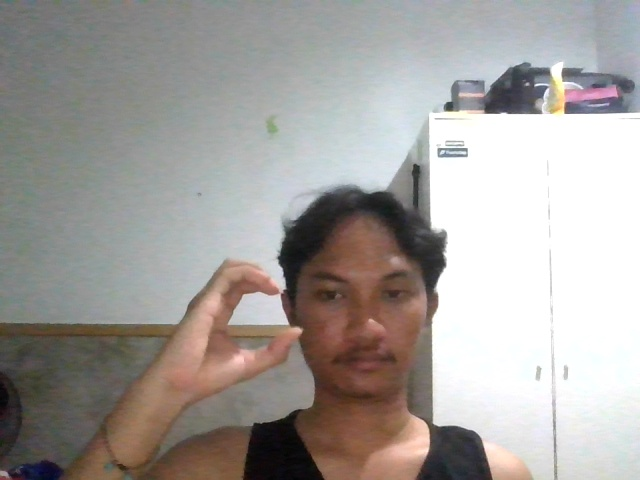c: (160, 256, 306, 396)
